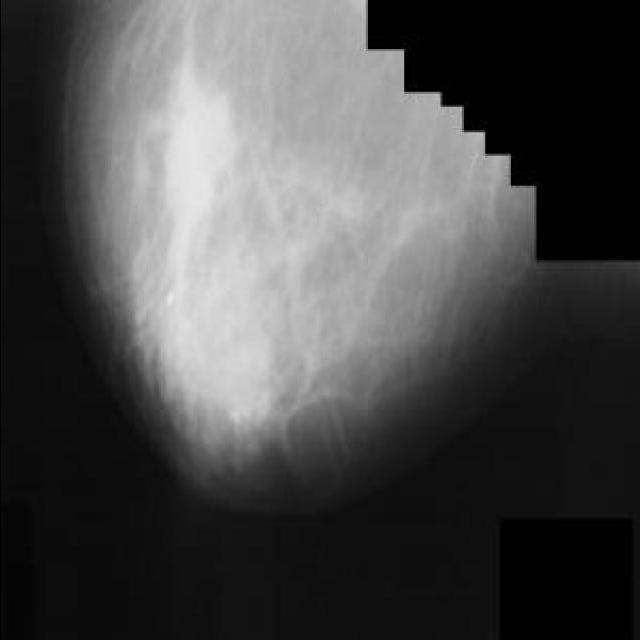tumor: (130, 68, 275, 429)
